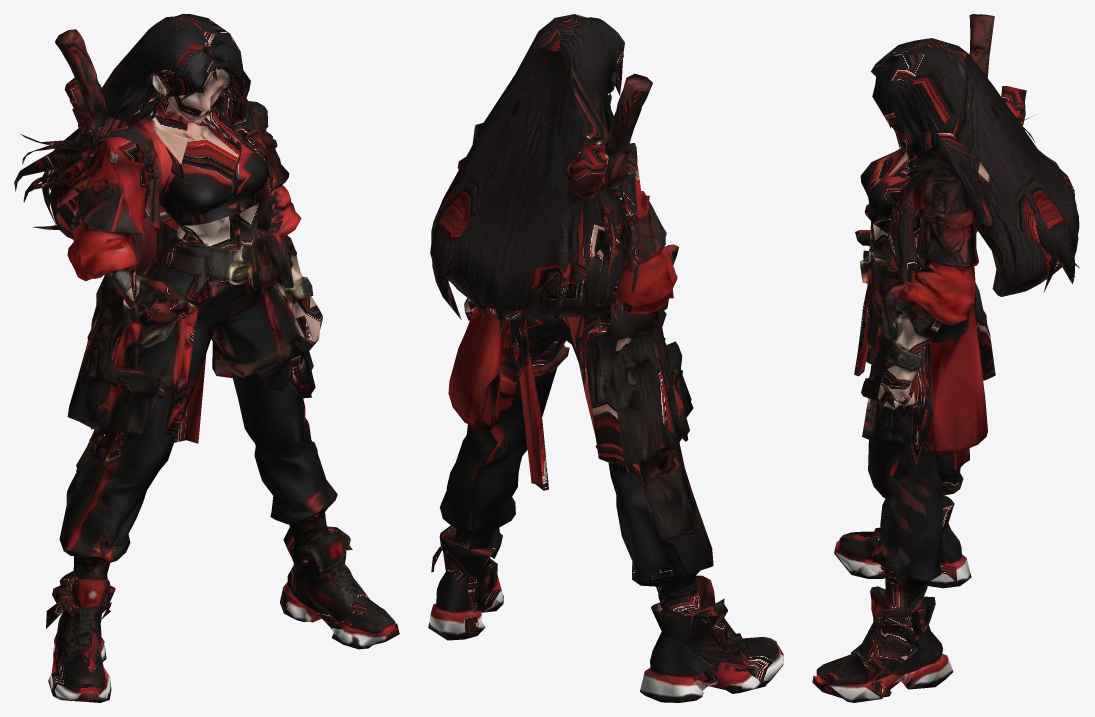
The model's file is ember-lo.glb.
The picture shows the model from 3 angles, left to right: view 1: azimuth 30°, elevation 25°; view 2: azimuth 150°, elevation 25°; view 3: azimuth 270°, elevation 25°; orthographic projection. The views are drawn at different scales.
Parts seen in each view (by area): view 1: model; view 2: model; view 3: model.
Boxes of the visible parts, box(x1,y1,x2,y2) form: model: box(14, 14, 399, 702); model: box(428, 14, 783, 702); model: box(812, 14, 1079, 702).
Bounding box in the file's own units: 1.02 × 1.9 × 0.784.
1 material, 1 textured.
